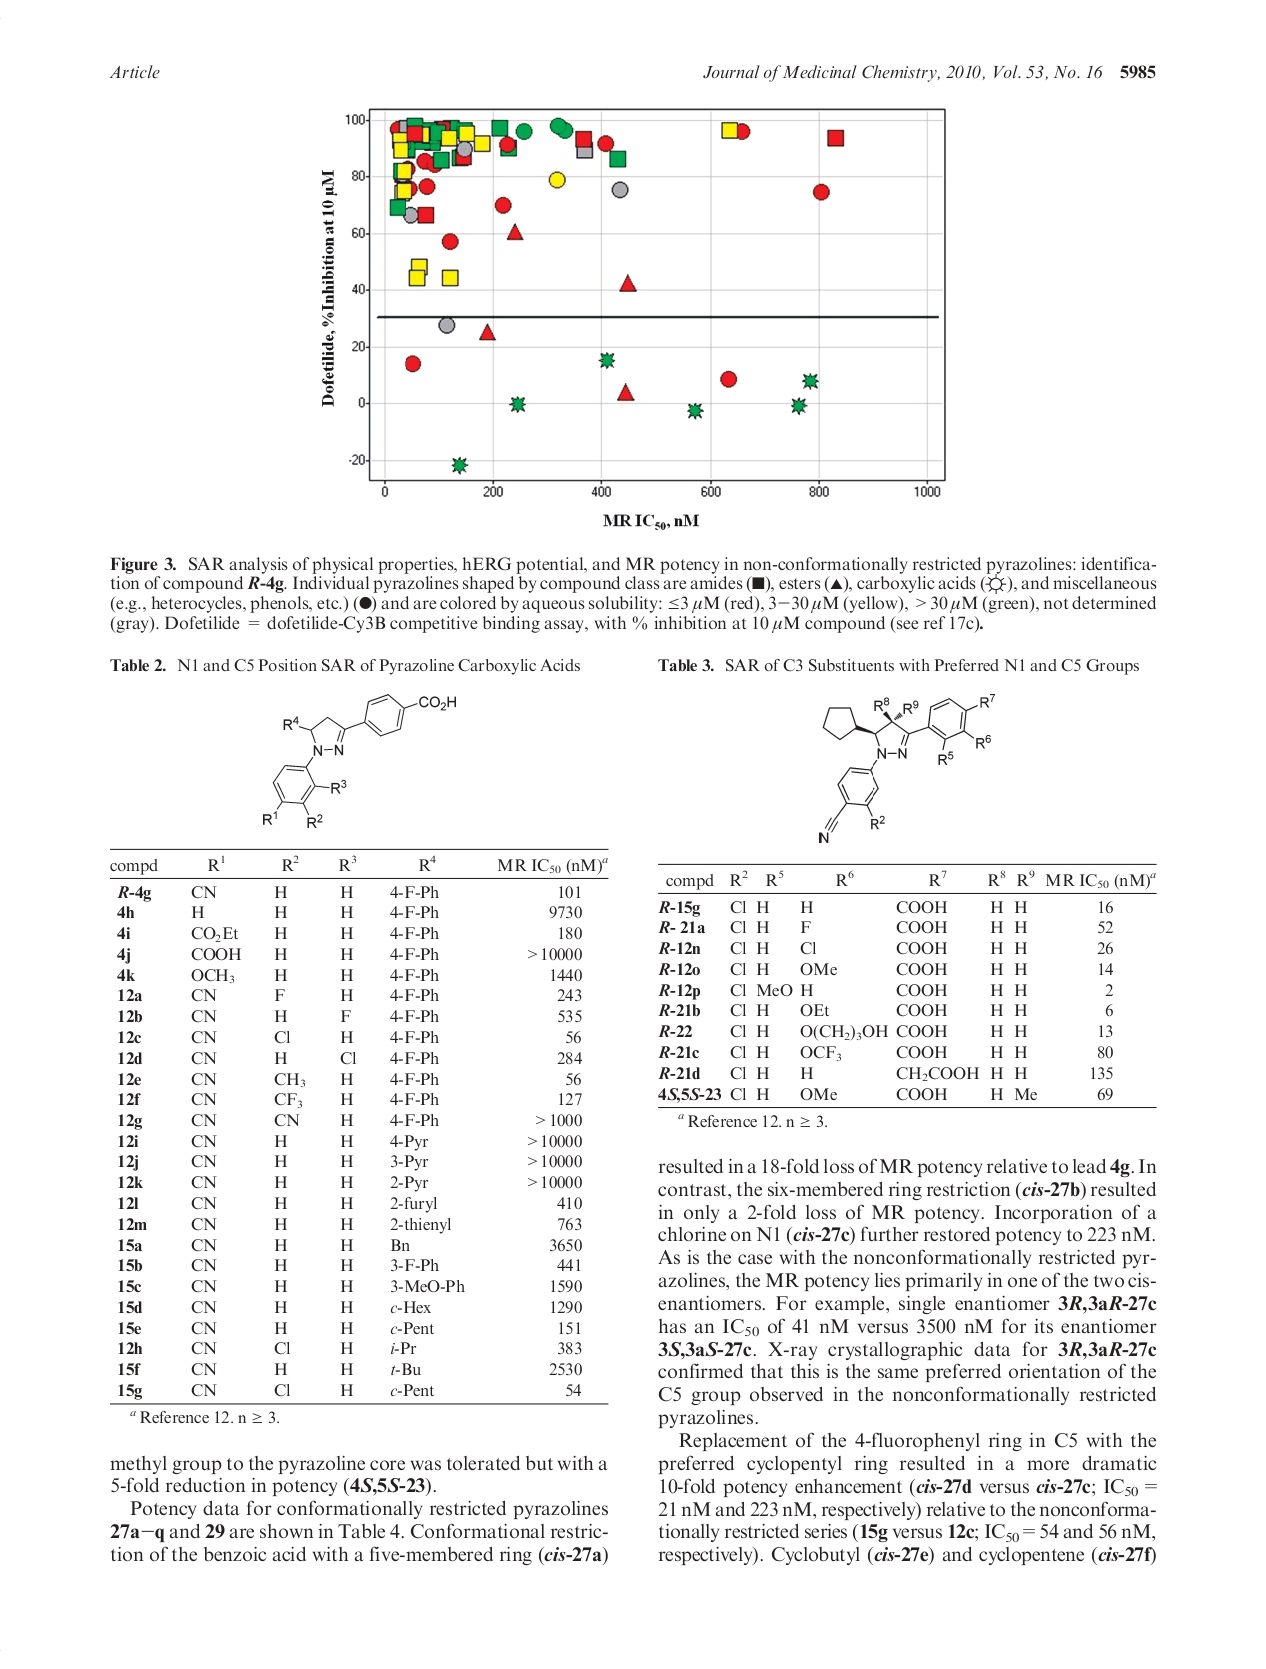exist_molecular: (814, 690, 999, 846), (257, 692, 459, 830)
